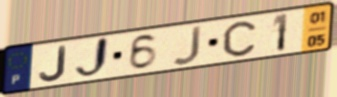1: (271, 11, 290, 55)
6: (127, 32, 159, 71)
C: (221, 20, 258, 58)
J: (73, 35, 111, 82), (170, 24, 204, 67), (37, 44, 68, 83)
